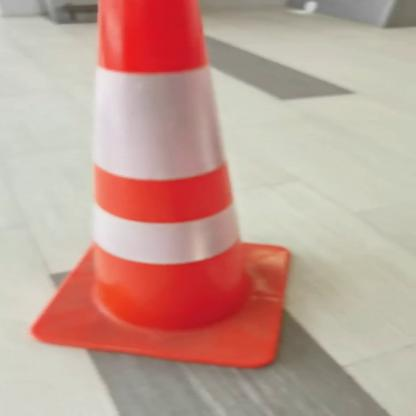cone: (8, 1, 325, 375)
